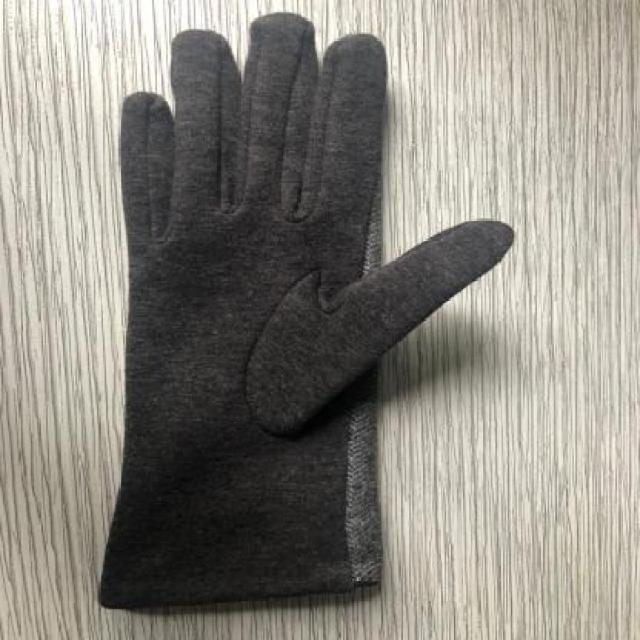gloved_hand: (102, 12, 521, 612)
